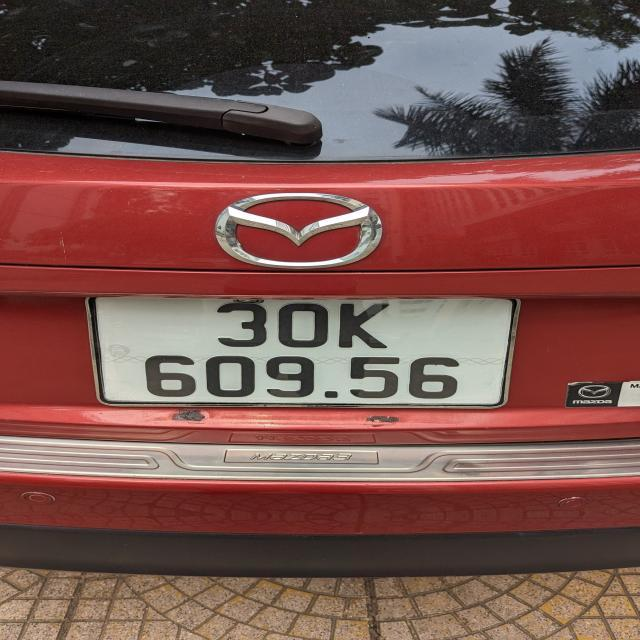license: (87, 293, 521, 409)
